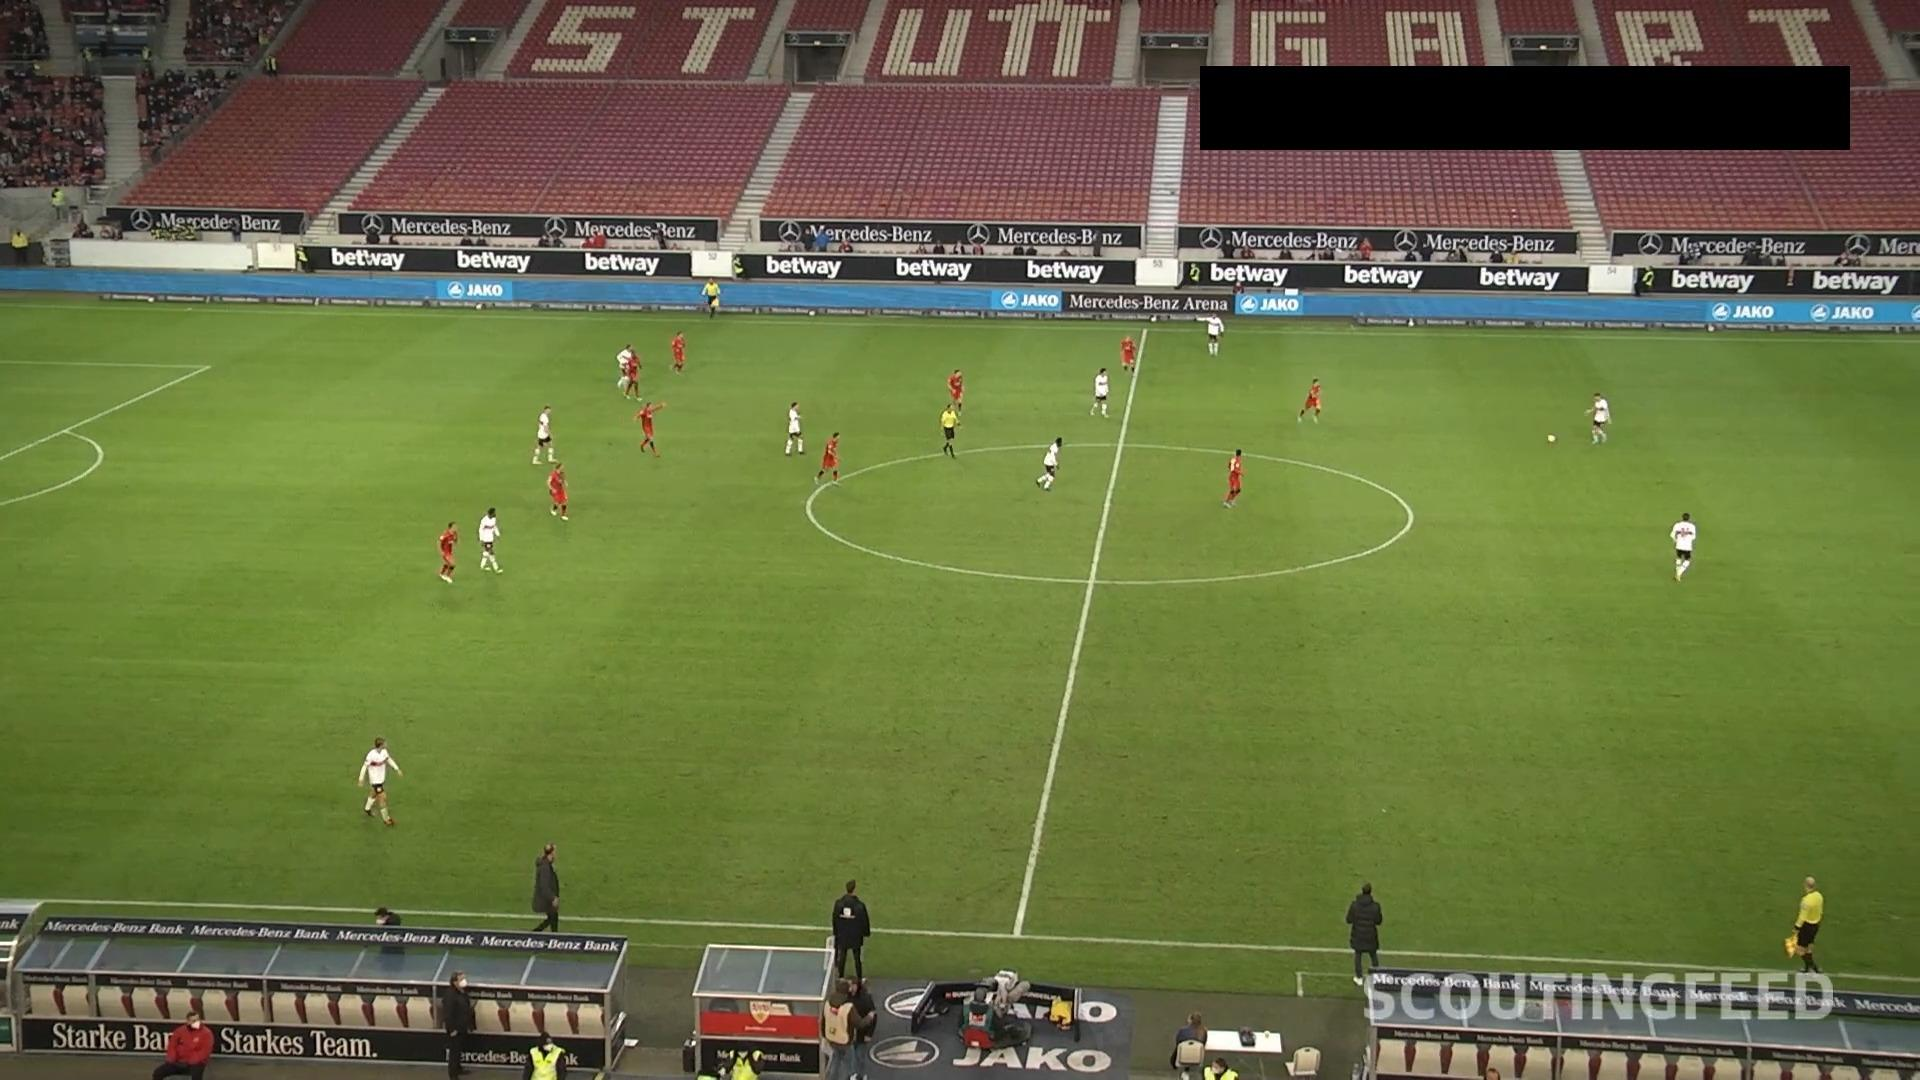ball: (1545, 434, 1557, 444)
